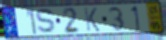1: (26, 8, 38, 36), (130, 5, 142, 32)
2: (61, 7, 81, 35)
3: (108, 6, 126, 32)
K: (83, 7, 101, 33)
S: (35, 7, 59, 35)
